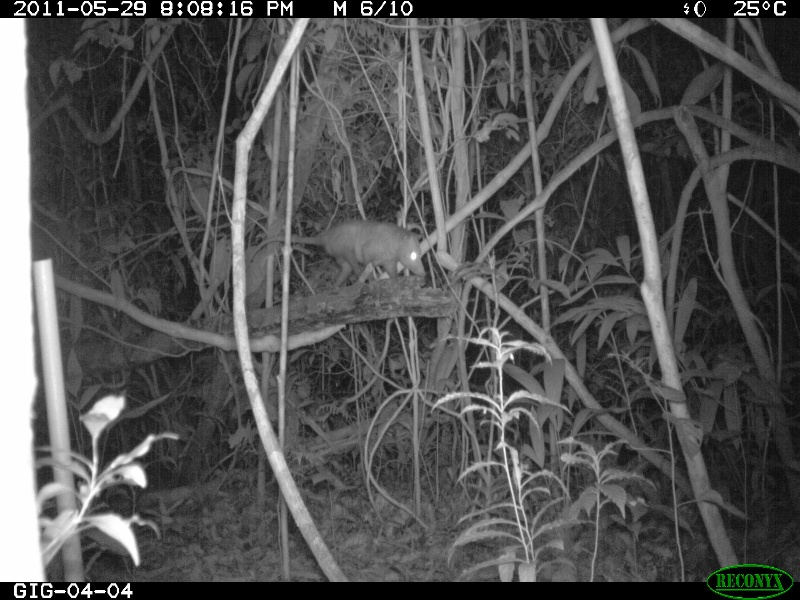opossum: (247, 216, 428, 289)
